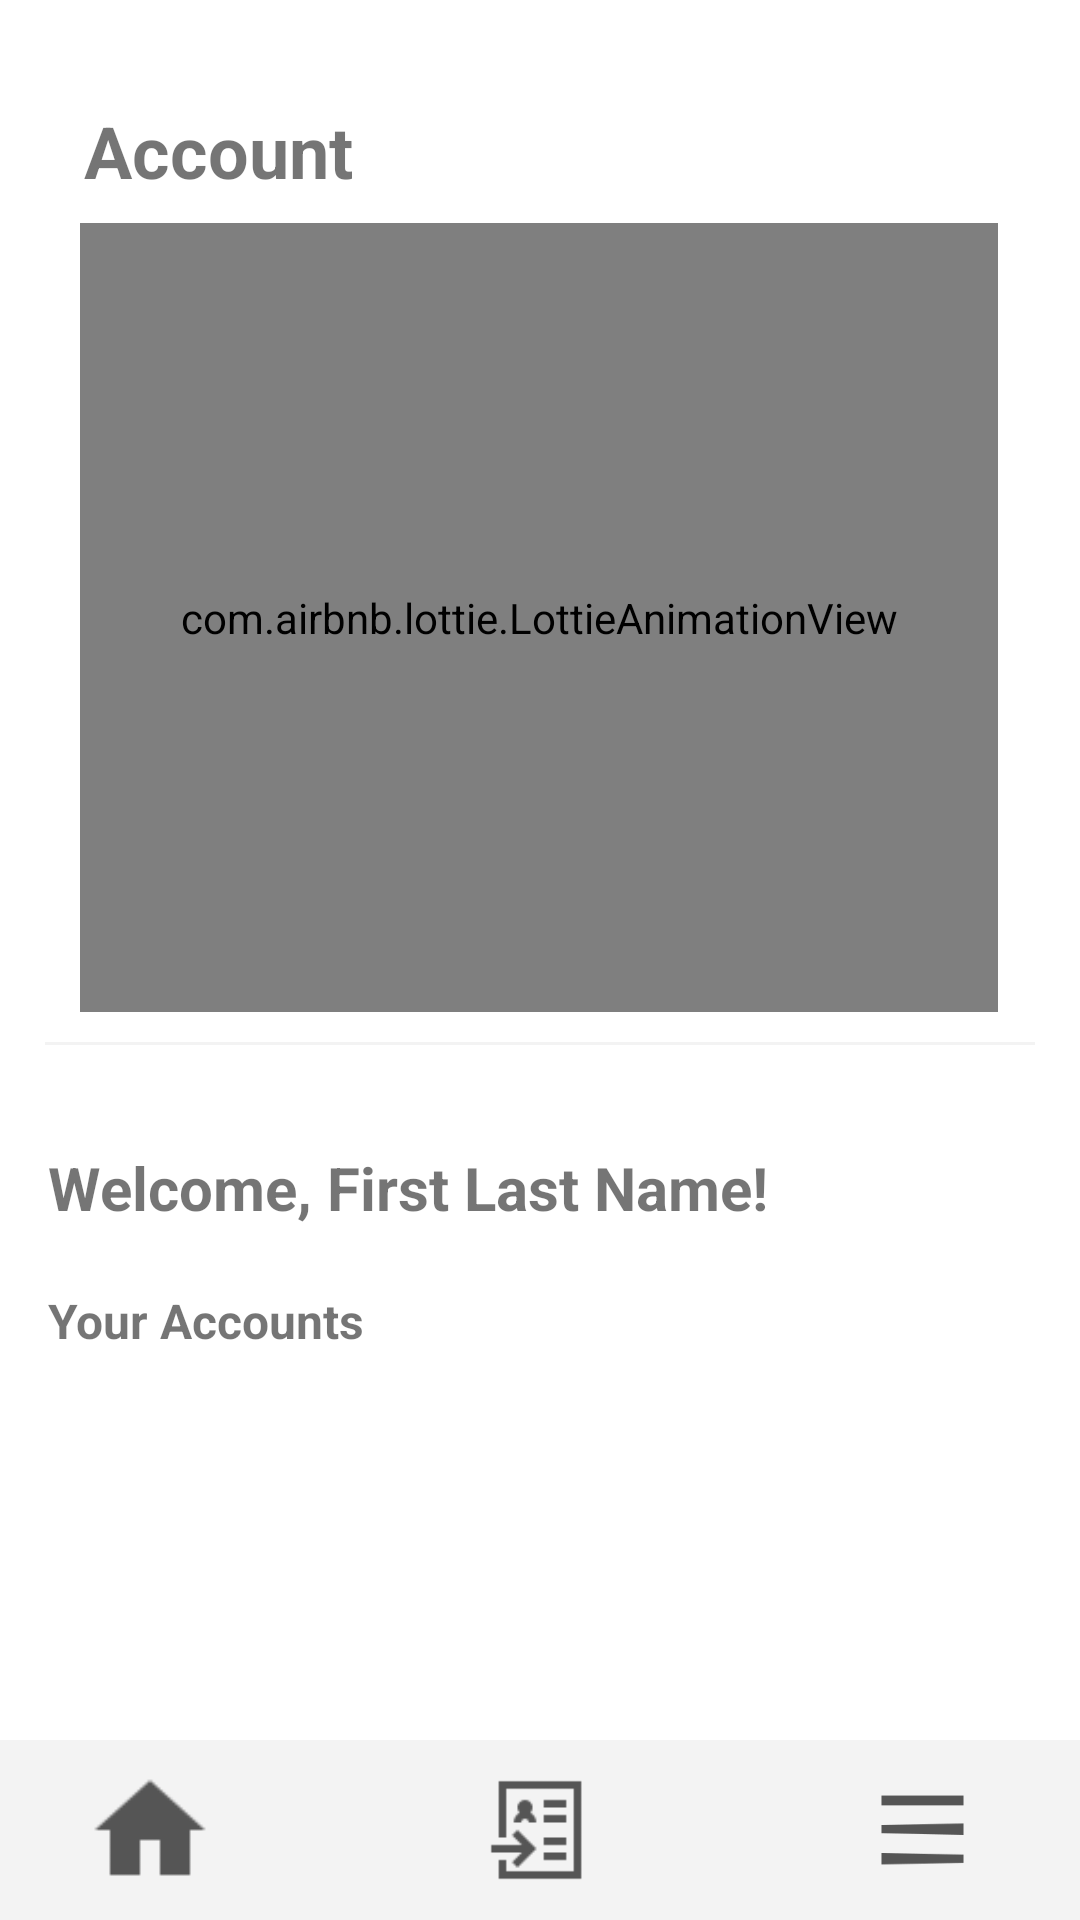

Screen size 1080w x 1920h. Icon name, then its center in pixels as (x,y):
hamburger: (922,1830)
home: (150,1828)
